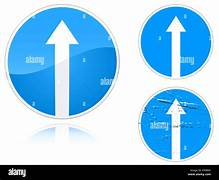forward: (8, 3, 120, 118)
